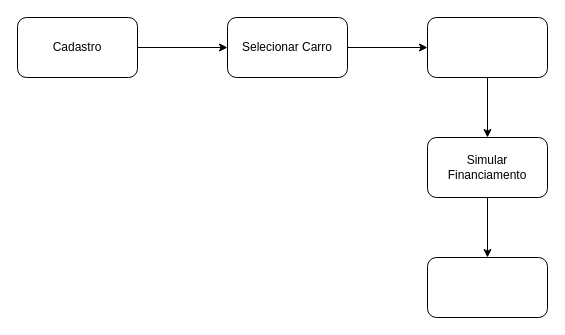
The diagram is 565 pixels wide and 335 high, and some of its shapes have lost their labels. The shapes that lost their labels are listed below. From the top down, each one's centre as x and y in pixels, then its label:
At (x=487, y=47): "Orçamento".
At (x=487, y=287): "Compra".
